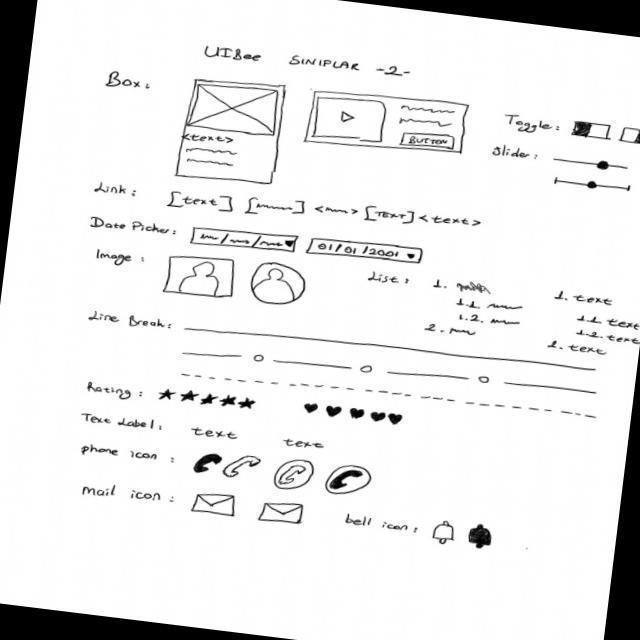button: (398, 129, 457, 154)
container: (174, 74, 291, 191), (302, 84, 472, 164)
icon-button: (162, 251, 239, 301), (249, 260, 310, 310), (325, 462, 375, 499), (272, 456, 317, 495)
image: (186, 79, 282, 139)
label: (201, 42, 414, 86), (89, 216, 181, 240), (80, 480, 164, 506), (77, 443, 161, 468), (86, 309, 174, 332), (78, 411, 166, 434), (344, 512, 422, 535), (502, 113, 564, 139), (91, 247, 147, 271), (85, 381, 146, 403), (104, 70, 154, 94), (493, 144, 541, 164), (280, 437, 328, 454), (94, 182, 139, 200), (369, 270, 410, 289), (191, 427, 240, 442), (572, 293, 616, 308), (566, 343, 608, 357), (608, 316, 640, 332), (605, 333, 640, 345)
link: (165, 188, 235, 217), (244, 194, 308, 222), (361, 205, 416, 230), (418, 213, 483, 230), (182, 132, 236, 147), (313, 204, 359, 219)
select: (305, 235, 427, 270), (190, 222, 301, 258)
slider: (552, 155, 632, 175), (553, 176, 633, 195)
text: (397, 117, 454, 133), (399, 104, 458, 118), (184, 145, 240, 159), (186, 157, 237, 171), (486, 301, 527, 315), (489, 318, 522, 329), (447, 328, 479, 339)
toggle: (570, 120, 613, 142), (619, 126, 640, 147)
